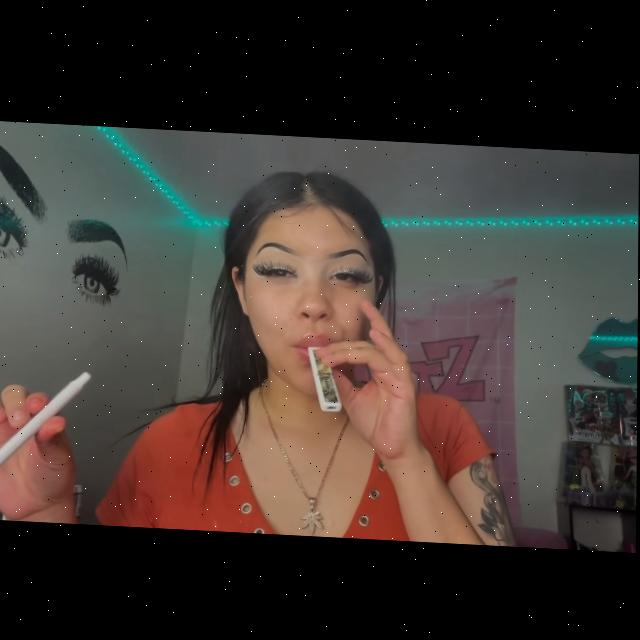vape: (0, 366, 93, 472), (307, 341, 345, 410)
